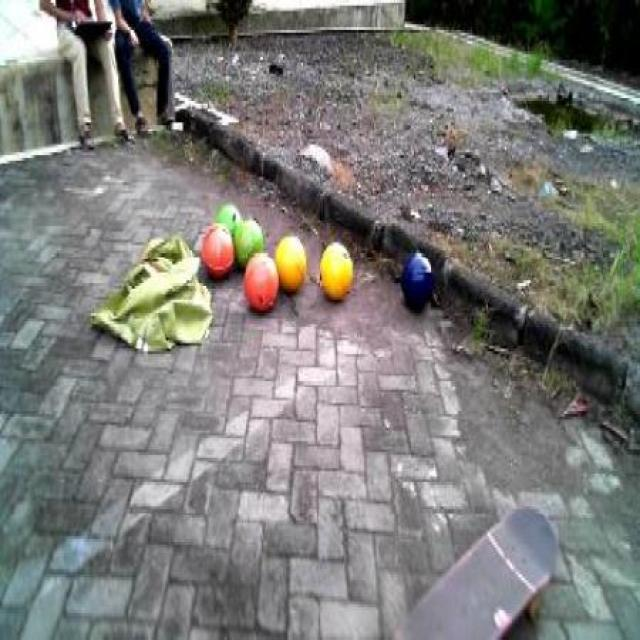buoy: (237, 242, 284, 321), (268, 224, 312, 302), (314, 232, 358, 310), (396, 241, 437, 322), (196, 212, 238, 286), (230, 204, 268, 267), (212, 192, 240, 230)
